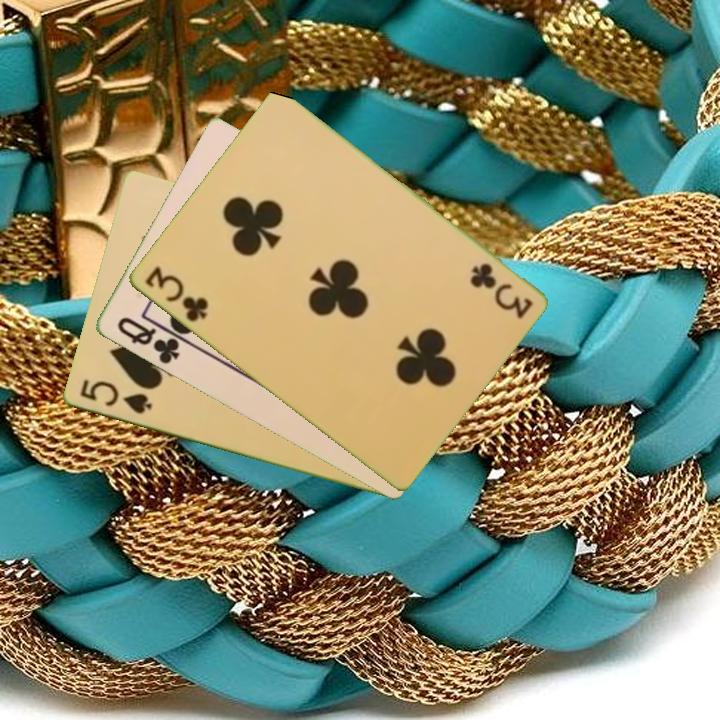3c: (140, 262, 211, 326), (466, 259, 536, 321)
5s: (75, 376, 155, 417)
Qc: (113, 313, 190, 368)
